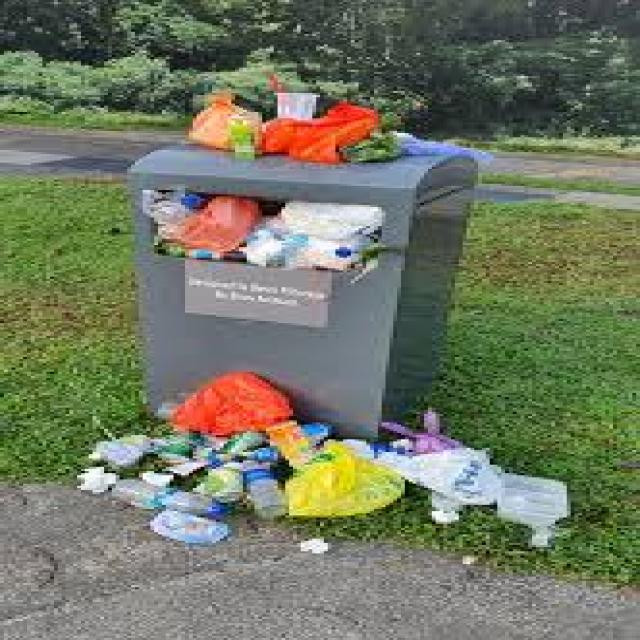bin_full: (116, 142, 478, 436)
normal_waste: (246, 198, 382, 270), (170, 370, 290, 436), (258, 101, 378, 163), (184, 93, 258, 152), (432, 450, 502, 503), (489, 475, 566, 522), (394, 133, 494, 165), (238, 467, 286, 517), (139, 186, 193, 228), (92, 437, 146, 467), (112, 477, 166, 507), (158, 488, 220, 514), (150, 432, 200, 460), (73, 464, 120, 492), (220, 428, 266, 454), (293, 422, 332, 450), (428, 492, 463, 522), (336, 438, 374, 460), (524, 524, 556, 550), (162, 458, 208, 476), (189, 444, 224, 464), (258, 214, 289, 236), (150, 400, 182, 420), (297, 536, 328, 554), (366, 442, 404, 456), (178, 192, 205, 209), (212, 461, 247, 474), (331, 245, 351, 258)
